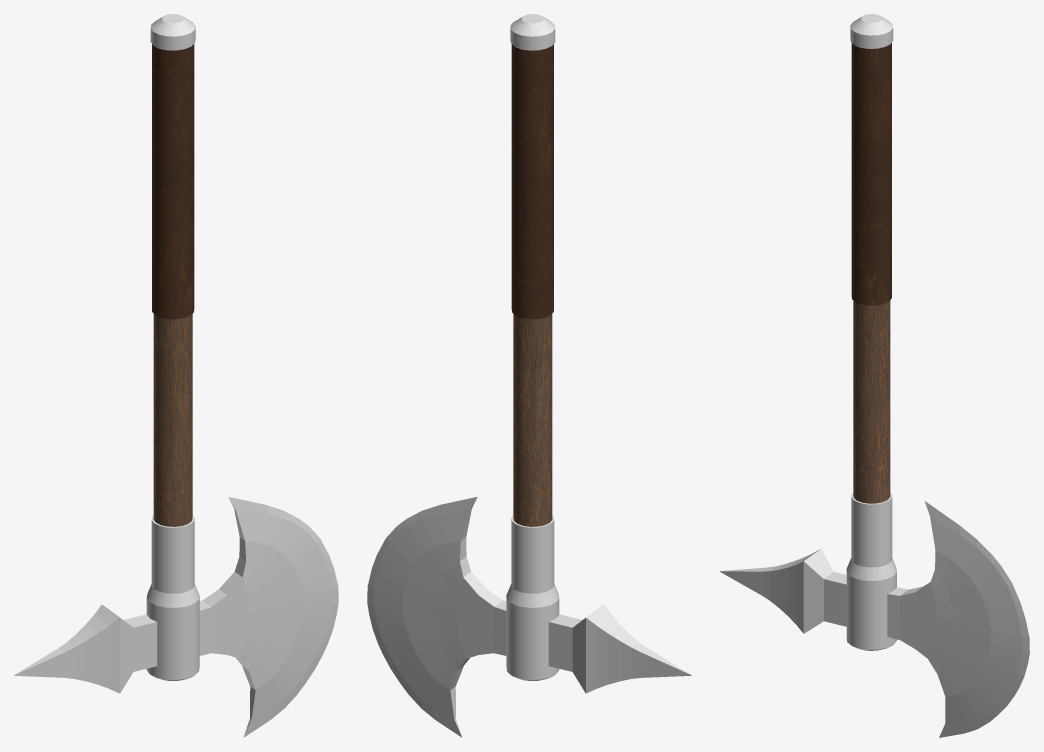
The model's file is lowpoly weapon axe 1.fbx.
3 renders of one model, left to right at view 1: azimuth 30°, elevation 25°; view 2: azimuth 150°, elevation 25°; view 3: azimuth 330°, elevation 25°, orthographic. The views are drawn at different scales.
Visible parts, largest first — view 1: AxeLong10_Cylinder.001, 柱体.054, 柱体.051, 柱体.055, 柱体.053; view 2: AxeLong10_Cylinder.001, 柱体.054, 柱体.051, 柱体.055, 柱体.053; view 3: AxeLong10_Cylinder.001, 柱体.054, 柱体.051, 柱体.055, 柱体.053.
Part boxes in pixels (left/top/right/bottom): AxeLong10_Cylinder.001: left=14, top=497, right=338, bottom=737; 柱体.054: left=152, top=44, right=194, bottom=319; 柱体.051: left=153, top=314, right=192, bottom=680; 柱体.055: left=146, top=515, right=199, bottom=680; 柱体.053: left=150, top=14, right=195, bottom=50; AxeLong10_Cylinder.001: left=367, top=497, right=691, bottom=737; 柱体.054: left=511, top=44, right=553, bottom=319; 柱体.051: left=513, top=314, right=552, bottom=680; 柱体.055: left=506, top=515, right=559, bottom=680; 柱体.053: left=510, top=14, right=555, bottom=50; AxeLong10_Cylinder.001: left=720, top=501, right=1029, bottom=737; 柱体.054: left=851, top=43, right=891, bottom=305; 柱体.051: left=853, top=300, right=890, bottom=650; 柱体.055: left=846, top=492, right=896, bottom=650; 柱体.053: left=850, top=14, right=893, bottom=48.
Size of the model in its own units: 28.92 by 62.74 by 4.12.
